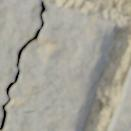brick: (108, 69, 130, 130)
broken_brick: (3, 4, 115, 130), (0, 0, 40, 123)
crack: (0, 1, 45, 129)
